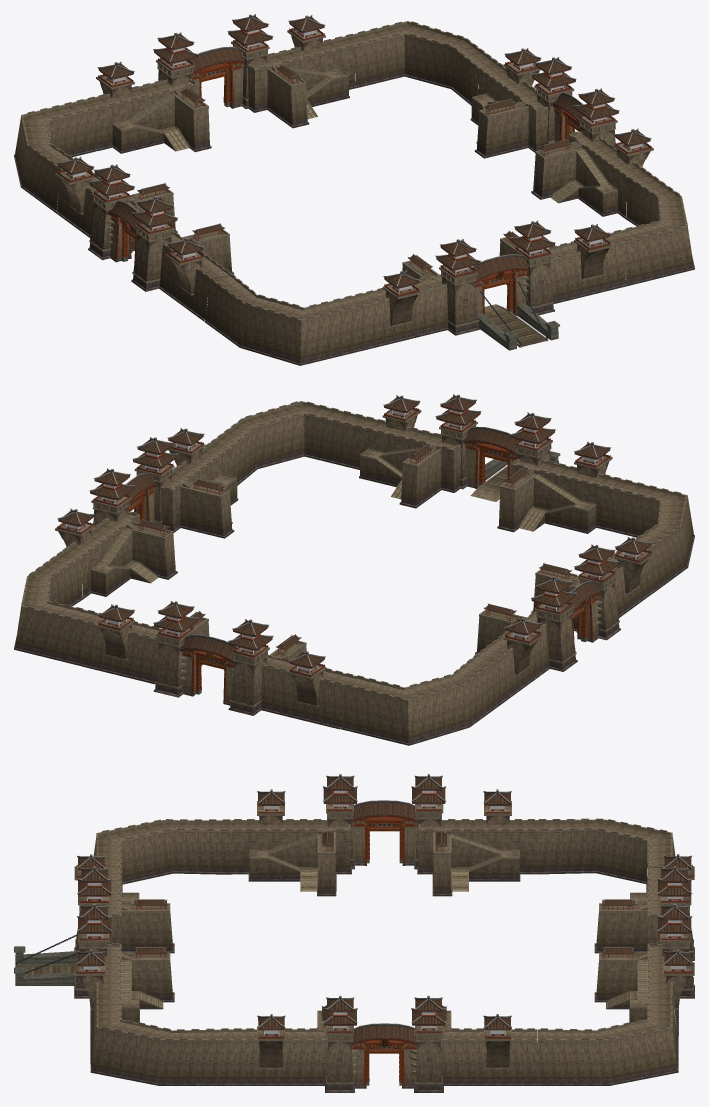
File: chengqiang01.FBX
The picture shows the model from 3 angles, top to bottom: view 1: azimuth 30°, elevation 25°; view 2: azimuth 150°, elevation 25°; view 3: azimuth 270°, elevation 25°; orthographic projection. The views are drawn at different scales.
Parts seen in each view (by area): view 1: chengqiang04, chengqiang01, chengqiang03, chengqiang06, chengqiang05, chengqiang07, chengqiang13, chengqiang11, chengqiang08, chengqiang12, chengqiang09; view 2: chengqiang04, chengqiang01, chengqiang03, chengqiang06, chengqiang05, chengqiang07, chengqiang11, chengqiang08, chengqiang09; view 3: chengqiang04, chengqiang01, chengqiang07, chengqiang03, chengqiang06, chengqiang13, chengqiang11, chengqiang05, chengqiang08, chengqiang12.
Part boxes in pixels (x1,y1,x2,y2): chengqiang04: (14,21,694,365); chengqiang01: (57,14,651,288); chengqiang03: (96,61,580,345); chengqiang06: (60,35,650,325); chengqiang05: (57,28,651,296); chengqiang07: (129,65,608,276); chengqiang13: (121,102,559,350); chengqiang11: (65,29,643,293); chengqiang08: (66,29,642,292); chengqiang12: (480,282,548,347); chengqiang09: (139,70,569,273); chengqiang04: (14,401,694,745); chengqiang01: (57,394,651,668); chengqiang03: (128,441,612,701); chengqiang06: (58,415,648,705); chengqiang05: (57,408,651,676); chengqiang07: (100,445,579,657); chengqiang11: (65,409,643,673); chengqiang08: (66,409,642,672); chengqiang09: (139,450,569,654); chengqiang04: (74,801,694,1092); chengqiang01: (77,774,692,1044); chengqiang07: (121,830,647,1029); chengqiang03: (15,816,432,1086); chengqiang06: (76,816,693,1082); chengqiang13: (14,859,402,1085); chengqiang11: (83,790,685,1035); chengqiang05: (76,808,692,1038); chengqiang08: (84,790,684,1035); chengqiang12: (15,934,77,975).
Size of the model in its own units: 11314 by 1954 by 13651.
